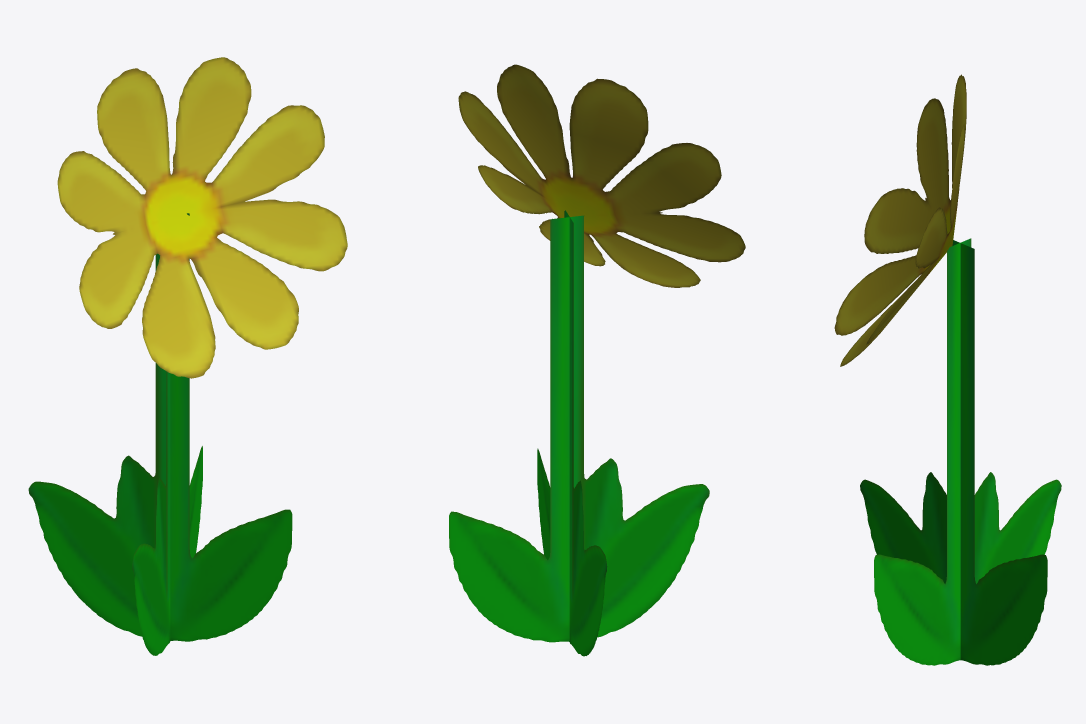
Rendered from Flower01_b01.FBX.
The picture shows the model from 3 angles, left to right: view 1: azimuth 30°, elevation 25°; view 2: azimuth 150°, elevation 25°; view 3: azimuth 270°, elevation 25°; orthographic projection. The views are drawn at different scales.
Visible parts, largest first — view 1: Flower01_b01; view 2: Flower01_b01; view 3: Flower01_b01.
Boxes of the visible parts, x1,y1,x2,y2 form: Flower01_b01: [28, 57, 347, 655]; Flower01_b01: [449, 64, 745, 656]; Flower01_b01: [834, 74, 1061, 665].
Bounding box in the file's own units: 39.49 × 80.76 × 32.65.
Materials: 1 (1 with a texture image).
